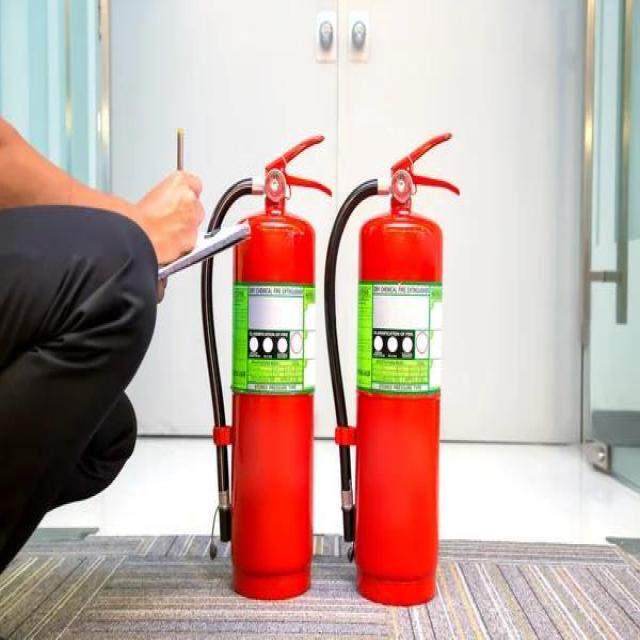fire_extinguisher: (319, 129, 463, 609), (193, 126, 334, 604)
